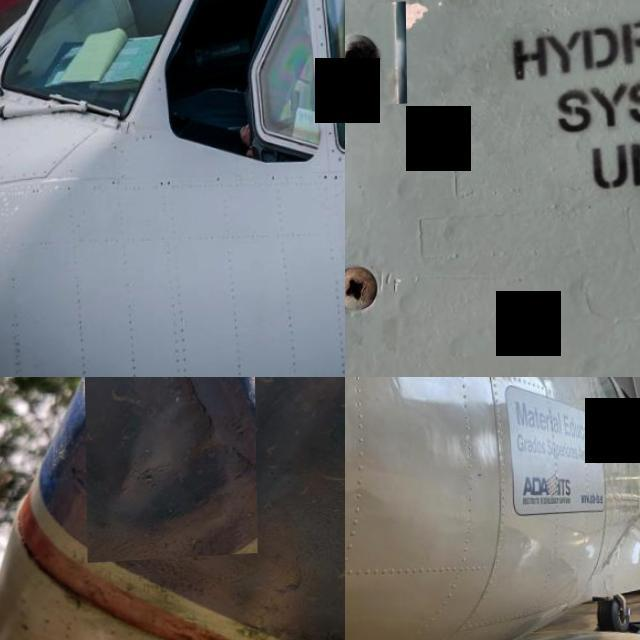Crack: (591, 582, 612, 608), (120, 124, 134, 139)
Dent: (83, 377, 256, 564)
Missing_Fastener: (345, 5, 406, 111)
